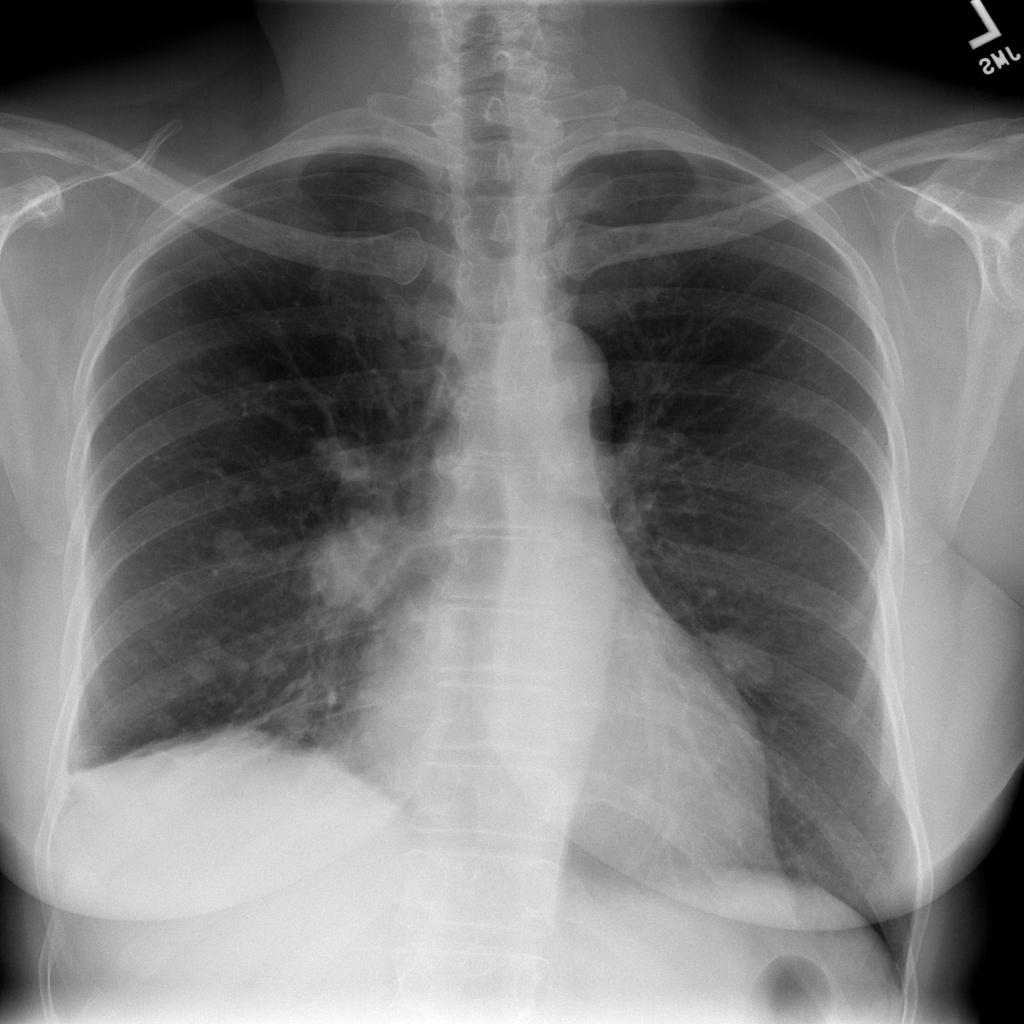nodule: (294, 510, 425, 638), (700, 622, 788, 698), (304, 418, 388, 496), (198, 511, 274, 585), (173, 639, 225, 690), (245, 638, 297, 689), (133, 704, 190, 748)
